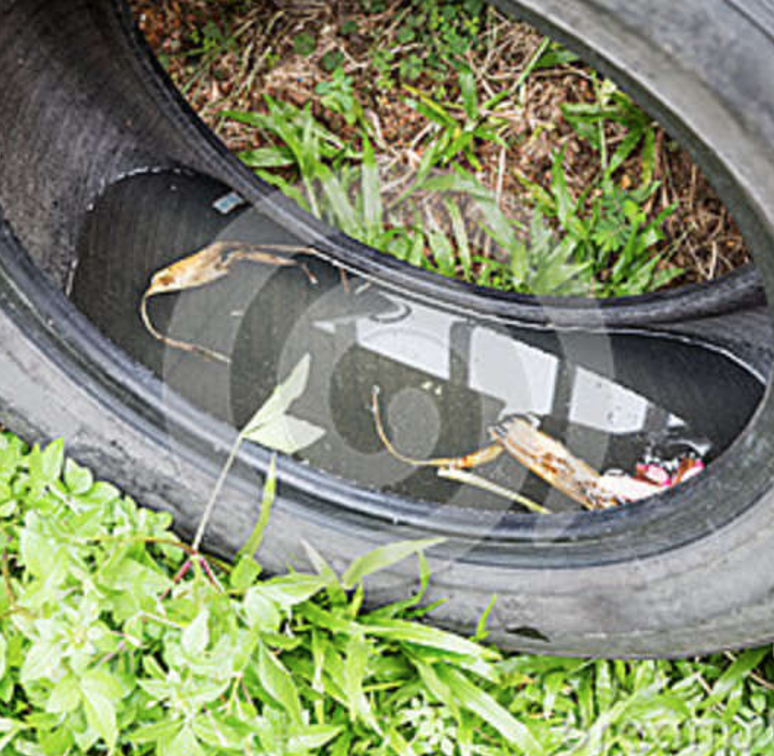tire: (1, 1, 772, 678)
water: (73, 155, 774, 549)
